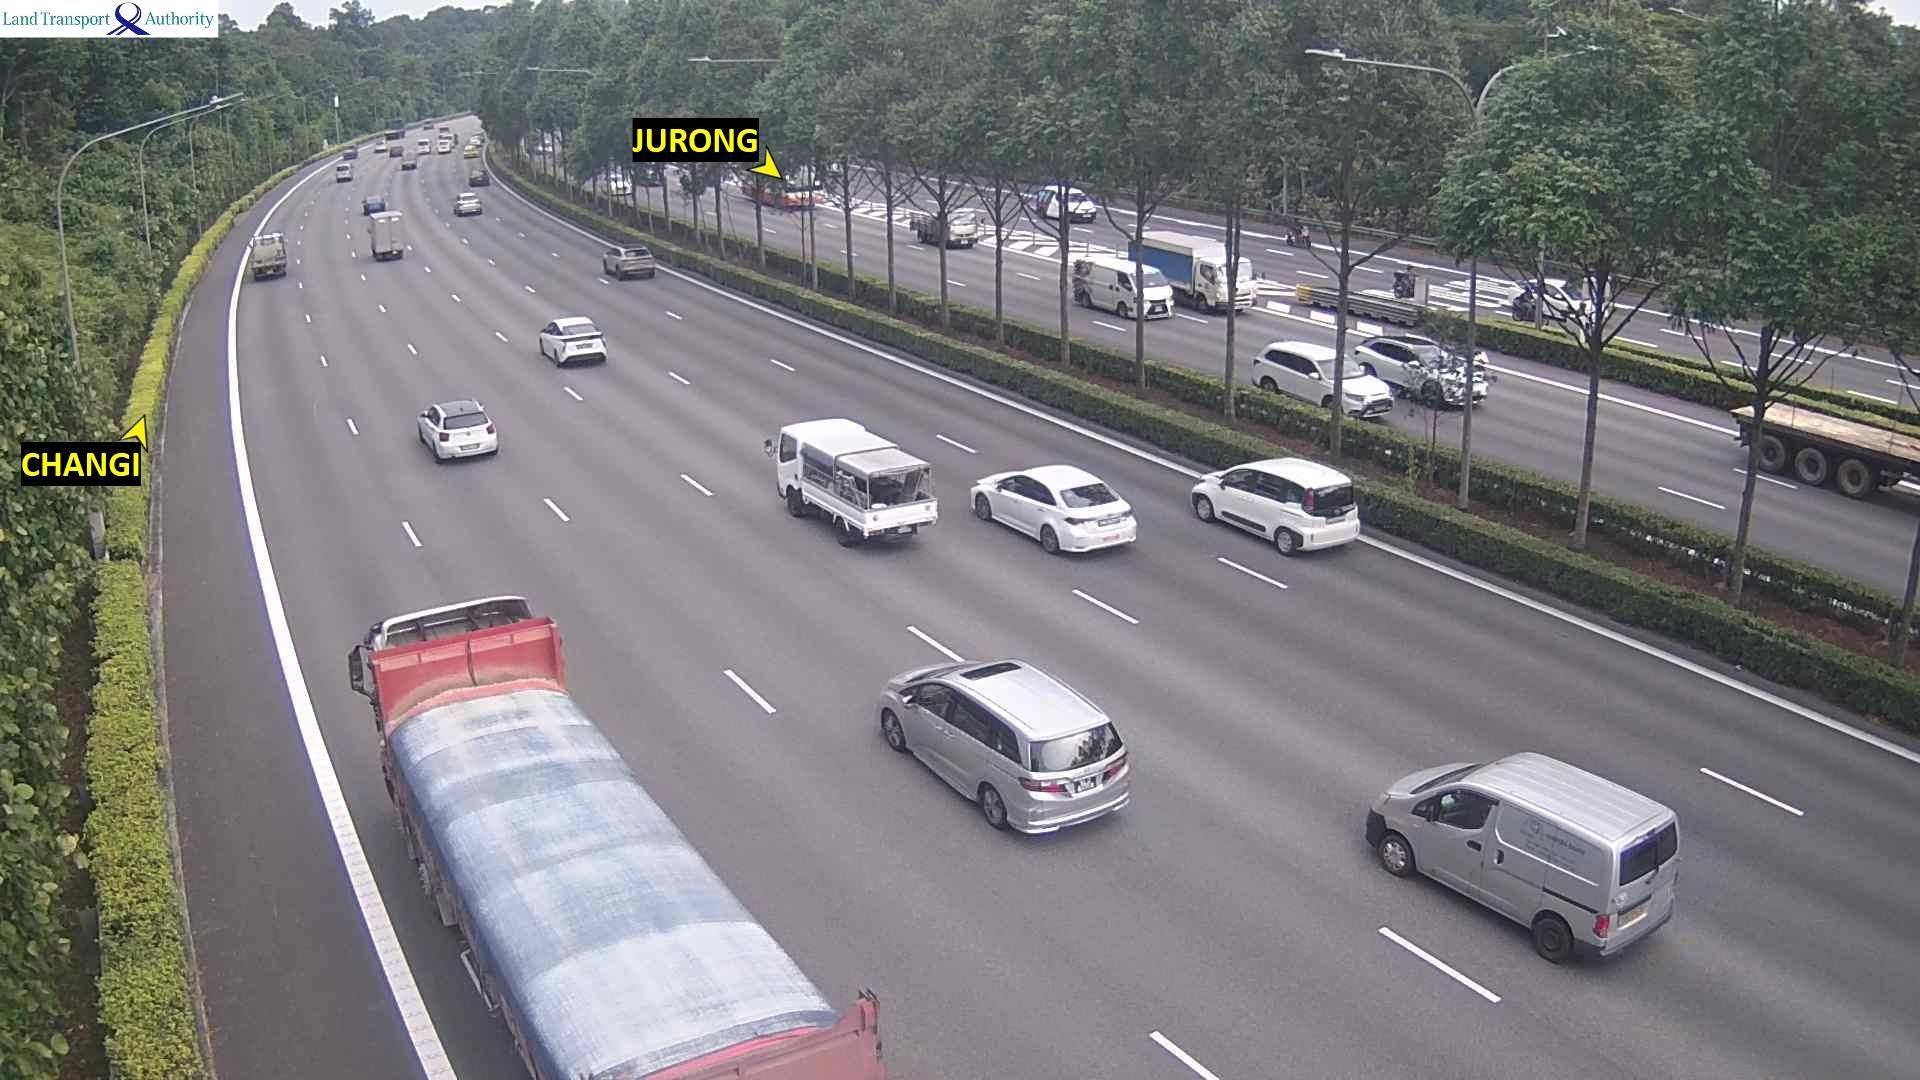incoming: (1298, 354, 1395, 420), (1396, 338, 1487, 404), (1195, 250, 1270, 320), (1108, 265, 1182, 328), (937, 208, 987, 257), (1058, 187, 1107, 228), (604, 174, 637, 196), (1300, 228, 1319, 248)
